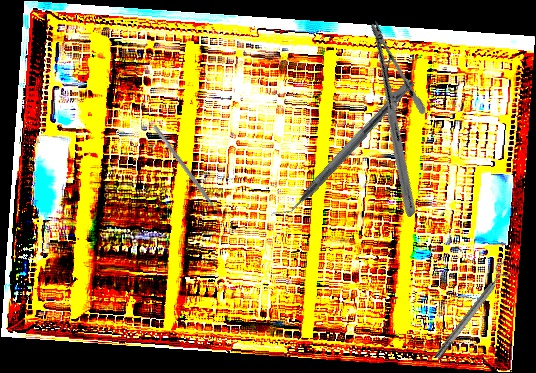Chopper: (268, 69, 416, 229)
Fixation Ring: (429, 261, 514, 363)
Needle Holder: (298, 20, 488, 218)
Spatula Surgical: (148, 124, 225, 221)
